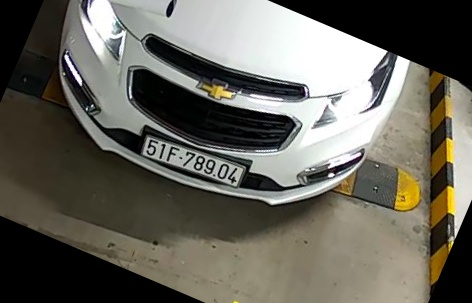plate: (134, 126, 253, 189)
